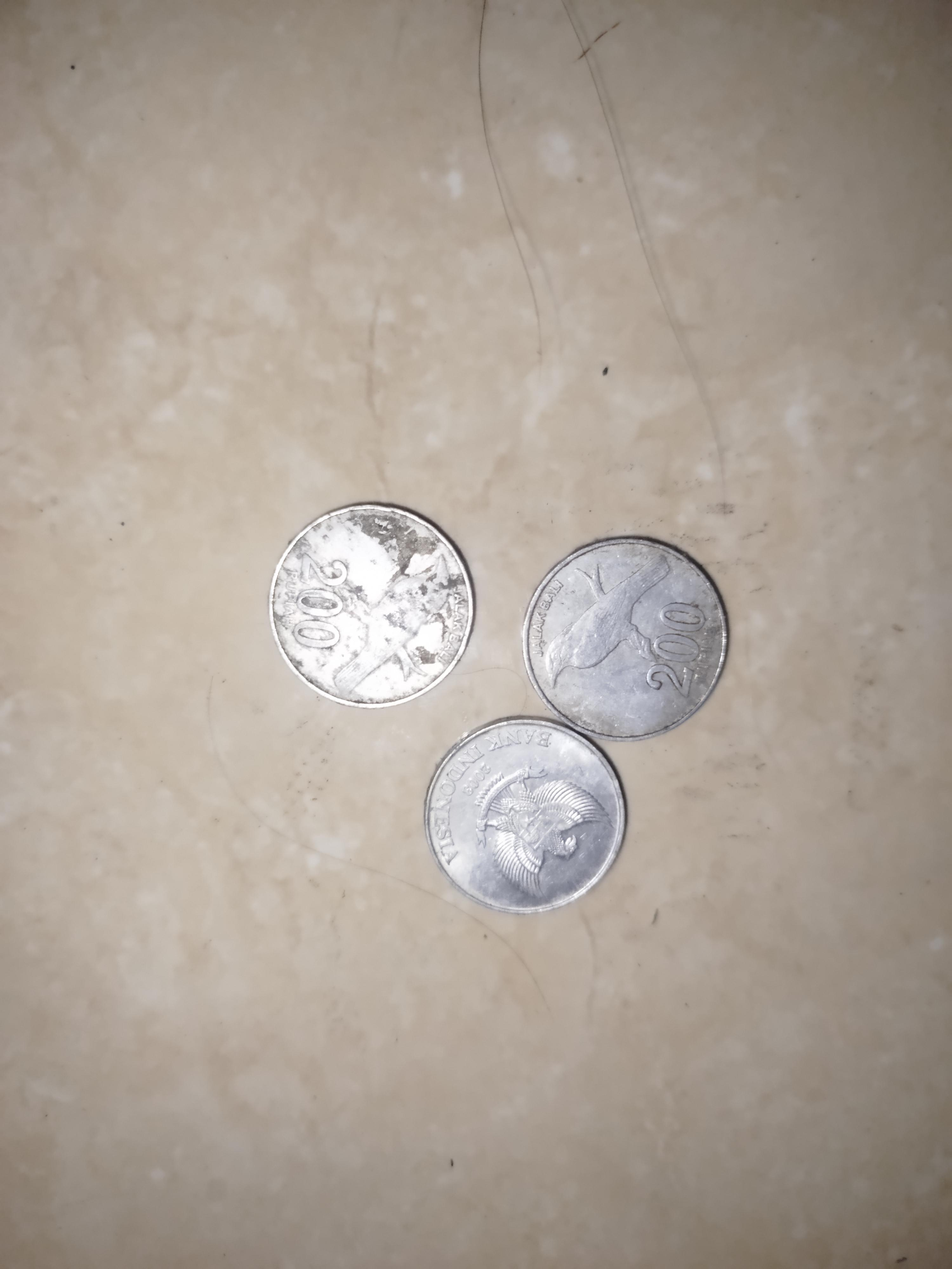coin_200_e2003: (525, 532, 740, 744), (276, 495, 476, 711), (424, 717, 630, 921)
